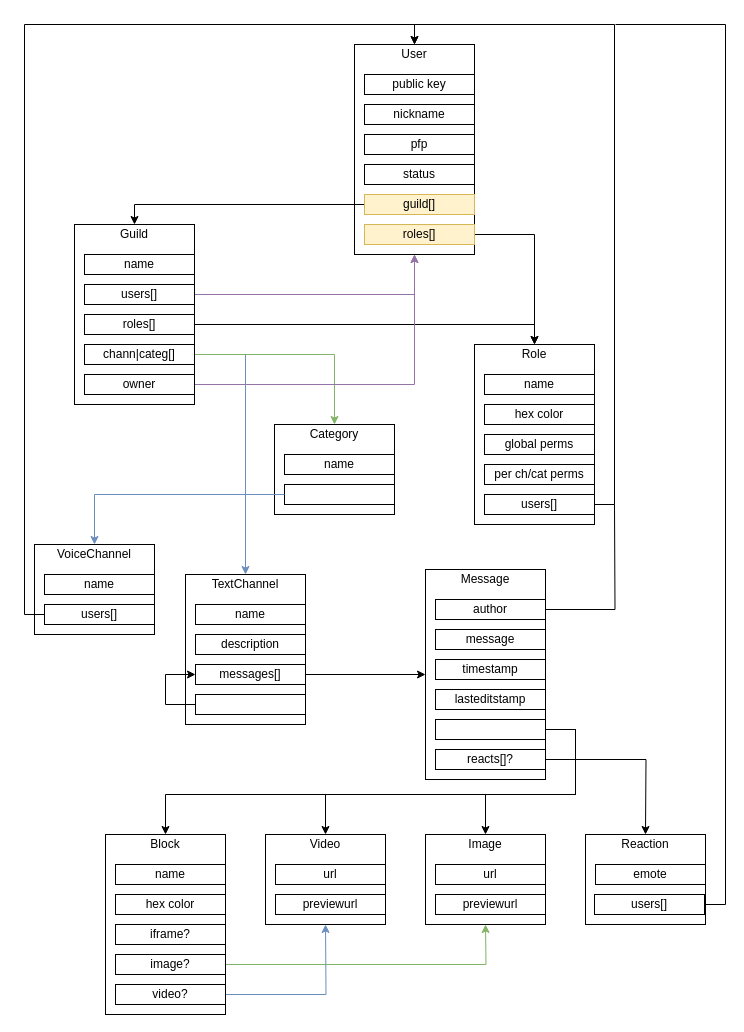
Image size: 744x1032. Some labels were removed from this diagram. Each missing label, with the centre of its shape:
channels[]: the point at 339,494
embed[]?: the point at 490,729
pinned[]?: the point at 250,704
